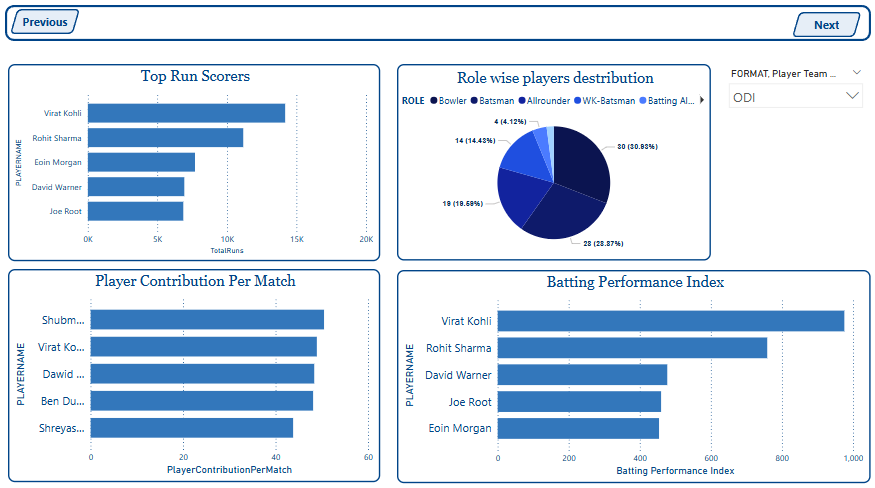

The page's visual inventory and layout, read from the dashboard file:
{"tool":"powerbi","page":{"name":"Total Runs, Contribution Per Match","canvas":[1280,720],"ordinal":5},"visuals":[{"type":"barChart","title":"Player Contribution Per Match ","fields":{"Y":["PLAYER_BATTING_STATS_MAIN.PlayerContribution"],"Category":["PLAYER_BATTING_STATS_MAIN.PLAYERNAME"]},"box":[0,400,535,306.7],"z":0},{"type":"pieChart","title":"Role wise players destribution","fields":{"Y":["TEAM_PLAYERS_MAIN.PlayerRoleCount"],"Category":["TEAM_PLAYERS_MAIN.ROLE"]},"box":[583.3,103.3,451.7,283.3],"z":1000},{"type":"barChart","title":"Top Run Scorers","fields":{"Category":["PLAYER_BATTING_STATS_MAIN.PLAYERNAME"],"Y":["PLAYER_BATTING_STATS_MAIN.TotalRuns"]},"box":[0,103.3,535,283.3],"z":2000},{"type":"shape","box":[0,20,1263.8,49.5],"z":3000,"group":"g1"},{"type":"barChart","title":"Batting Performance Index","fields":{"Category":["PLAYER_BATTING_STATS_MAIN.PLAYERNAME"],"Y":["PLAYER_BATTING_STATS_MAIN.Batting Performance Index"]},"box":[583.3,400,681.7,306.7],"z":3000},{"type":"slicer","fields":{"Values":["PLAYER_BATTING_STATS_MAIN.FORMAT","TEAM_PLAYERS_MAIN.Player Team Name"]},"box":[1051.7,103.3,213.3,121.7],"z":4000},{"type":"group","id":"g1","title":"Group 1","box":[0,20,1264,48],"z":5000},{"type":"actionButton","box":[1151.2,27.2,100,36.2],"z":12000,"group":"g1"},{"type":"actionButton","box":[6,25.8,100,36.5],"z":14001,"group":"g1"}]}

Visuals, with their boxes in screenshot pixels (x1, y1, x2, y2), scaled from the page's 1280x720 canvas onto the 875x488 screenshot:
"Player Contribution Per Match " barChart: 0, 271, 366, 479
"Role wise players destribution" pieChart: 399, 70, 708, 262
"Top Run Scorers" barChart: 0, 70, 366, 262
shape: 0, 14, 864, 47
"Batting Performance Index" barChart: 399, 271, 865, 479
slicer - PLAYER_BATTING_STATS_MAIN.FORMAT x TEAM_PLAYERS_MAIN.Player Team Name: 719, 70, 865, 152
"Group 1" group: 0, 14, 864, 46
actionButton: 787, 18, 855, 43
actionButton: 4, 17, 72, 42
